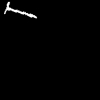double_crochet: (4, 2, 36, 17)
